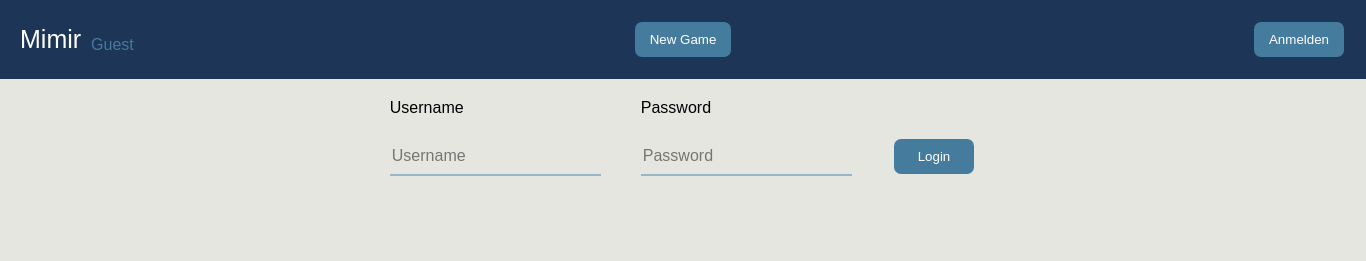
Manage card › Loading state with default cards
Click the button "Anmelden" at (1299, 40), box [1254,22,1344,57]
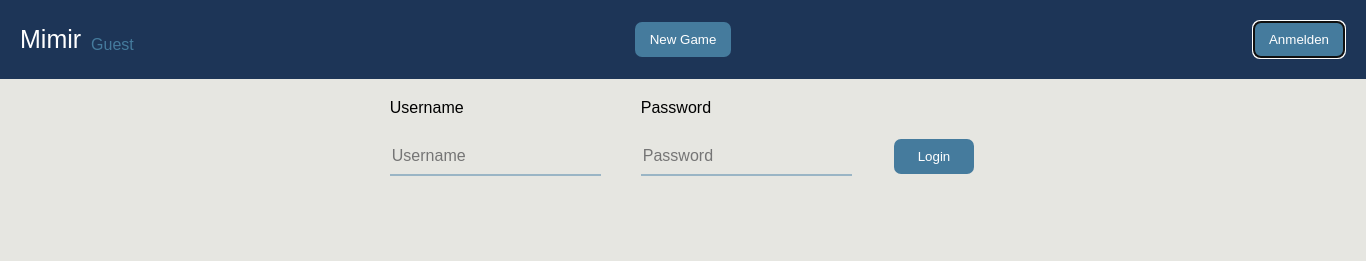
Type "admin" into the field with placeholder "Username" at (495, 156), box [390,137,601,176]
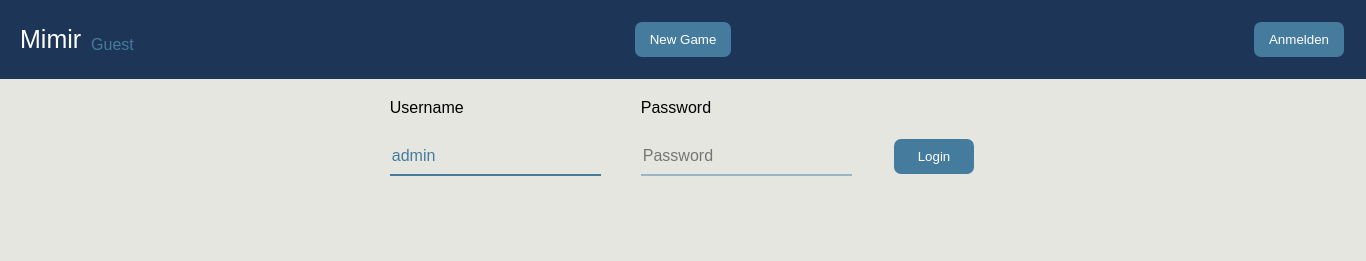
Type "admin" into the password field with placeholder "Password" at (746, 156), box [641,137,852,176]
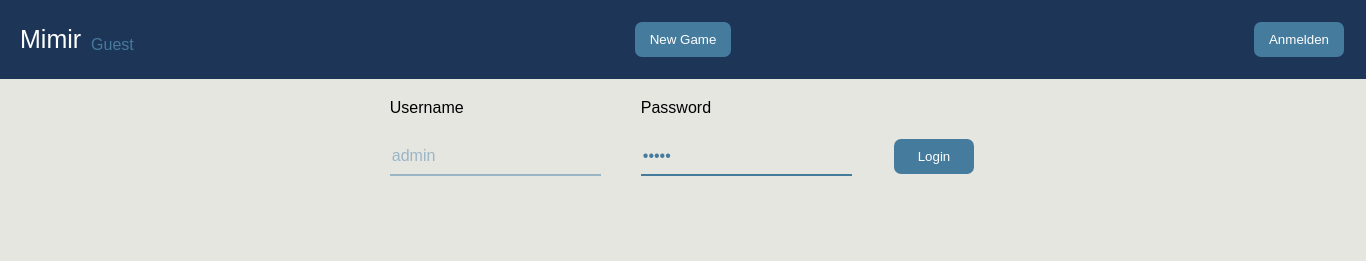
Click the button "Login" at (934, 156), box [894,139,974,174]
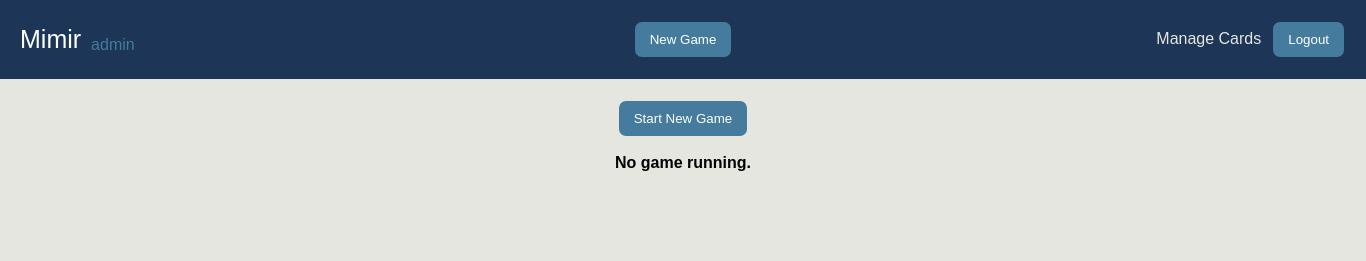
Click the link with test id "manage-cards" at (1209, 38), box [1156,30,1261,47]
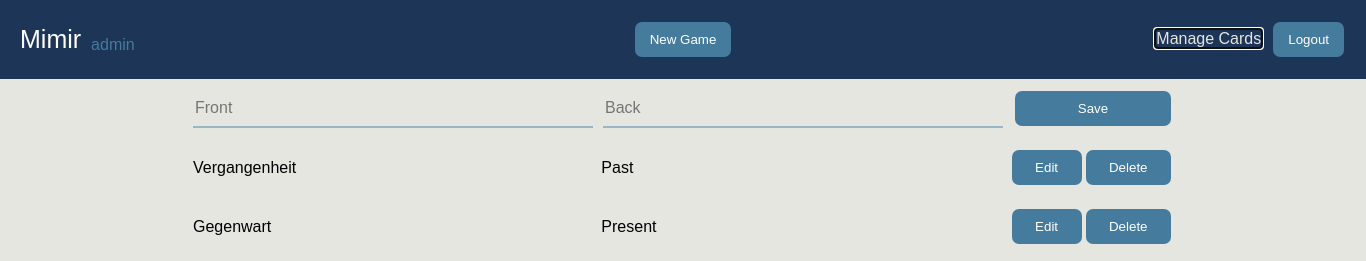
Now the text "Vergangenheit" is shown, box [193,158,296,176]
